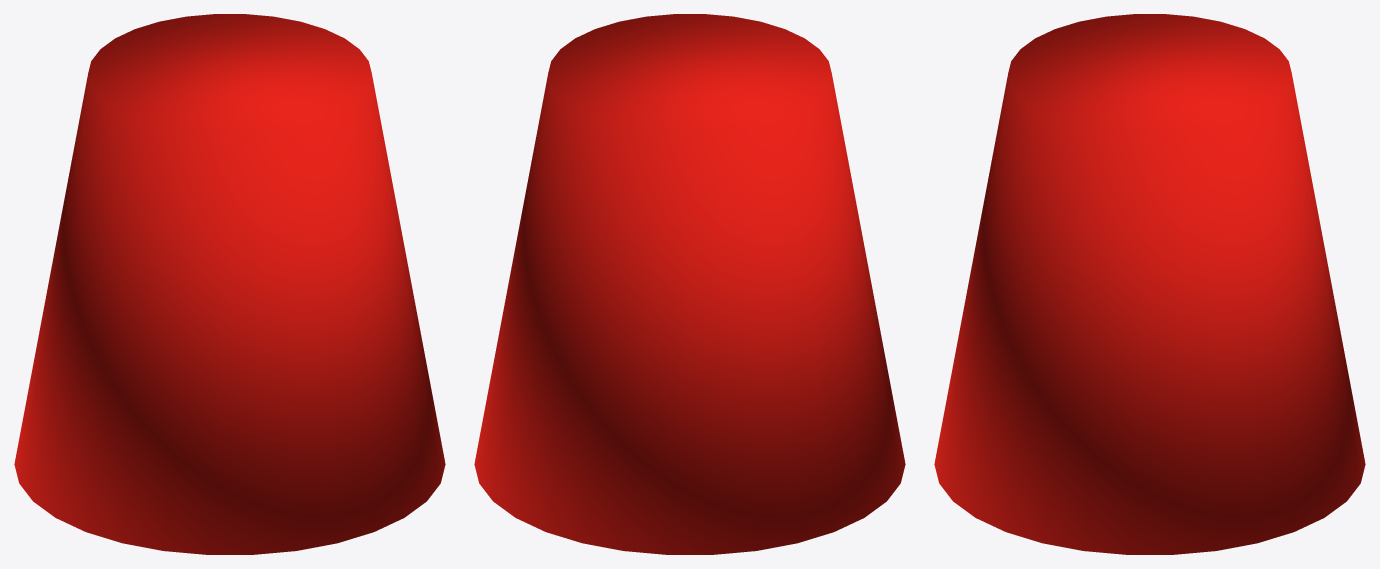
File: vaso.dae
3 renders of one model, left to right at view 1: azimuth 30°, elevation 25°; view 2: azimuth 150°, elevation 25°; view 3: azimuth 270°, elevation 25°, orthographic.
Visible parts, largest first — view 1: Vaso.001; view 2: Vaso.001; view 3: Vaso.001.
Boxes of the visible parts, box(x1,y1,x2,y2) form: Vaso.001: box(14, 14, 445, 554); Vaso.001: box(474, 14, 905, 554); Vaso.001: box(934, 14, 1365, 554).
Bounding box in the file's own units: 0.1193 × 0.12 × 0.12.
